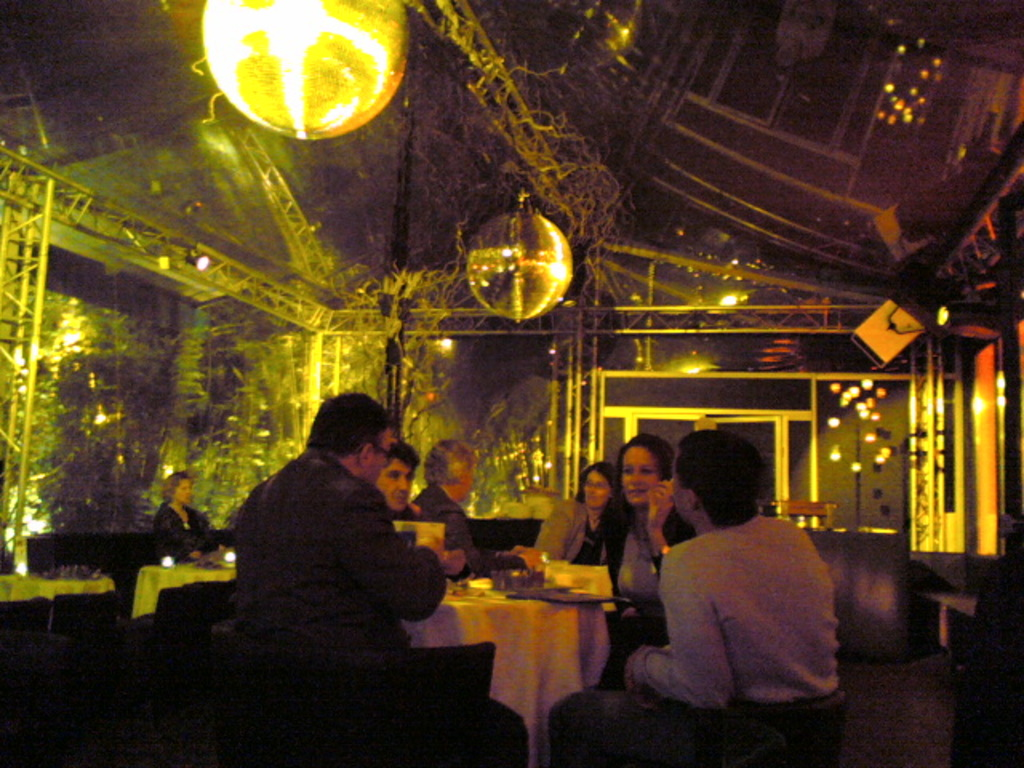Table: (402, 549, 643, 706)
